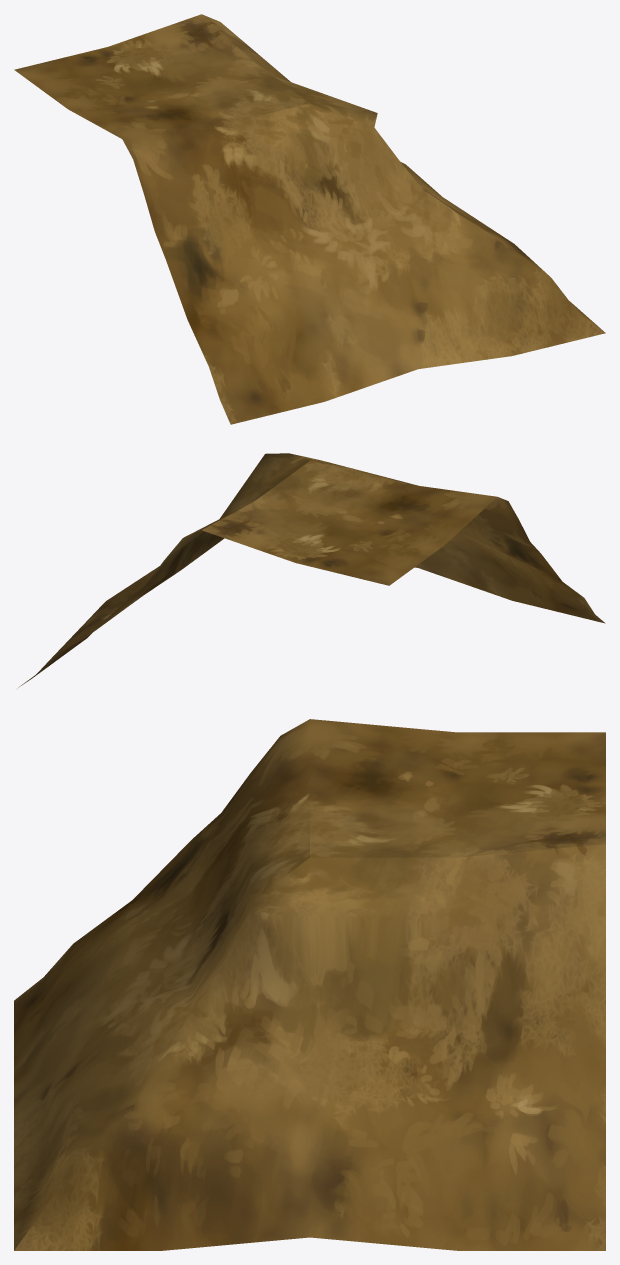
The model's file is Levelled_Slope_Corner_004.fbx.
The picture shows the model from 3 angles, top to bottom: view 1: azimuth 30°, elevation 25°; view 2: azimuth 150°, elevation 25°; view 3: azimuth 270°, elevation 25°; orthographic projection. The views are drawn at different scales.
Parts seen in each view (by area): view 1: Levelled_Slope_Corner_004; view 2: Levelled_Slope_Corner_004; view 3: Levelled_Slope_Corner_004.
Part boxes in pixels (x1,y1,x2,y2): Levelled_Slope_Corner_004: (14, 14, 605, 424); Levelled_Slope_Corner_004: (17, 453, 605, 688); Levelled_Slope_Corner_004: (14, 719, 605, 1250).
Bounding box in the file's own units: 10 × 5.25 × 10.
Materials: 1 (1 with a texture image).
